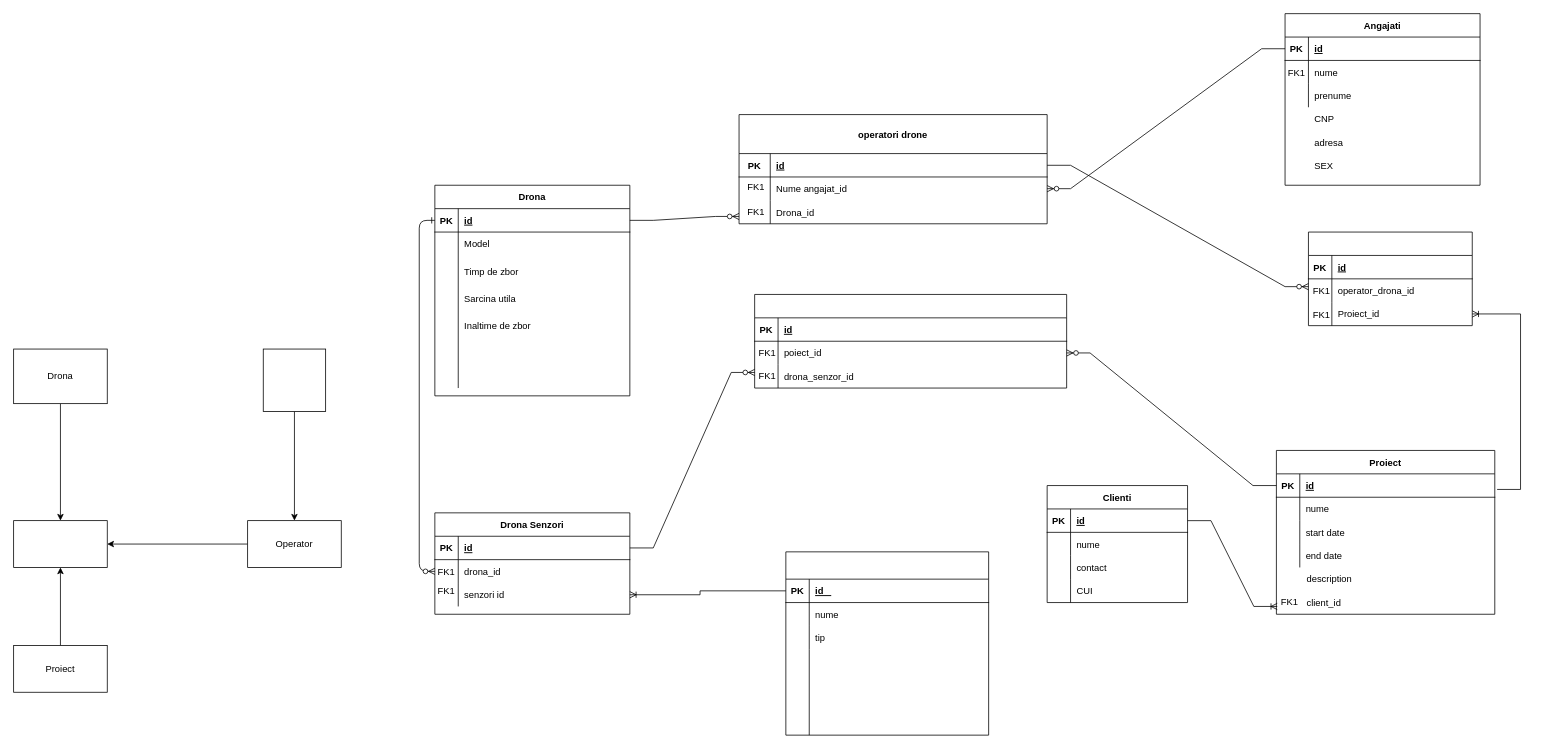
Some shapes in this 1541 by 749 pixel diagram are drawn without their labels. Each missing label, with the box of its shape:
Angajat: (262, 348, 326, 411)
drona_poiecte senzori: (754, 294, 1067, 388)
Drona_proiect: (13, 520, 107, 567)
Senzori: (785, 551, 989, 735)
